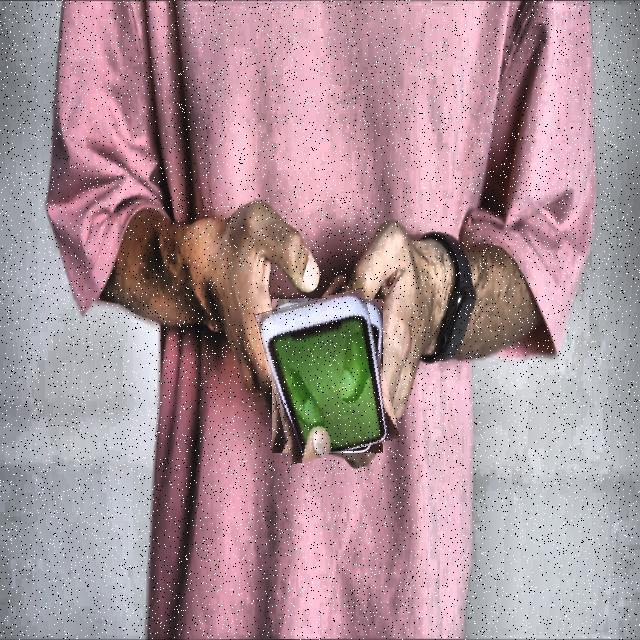Phone: (263, 292, 392, 458)
